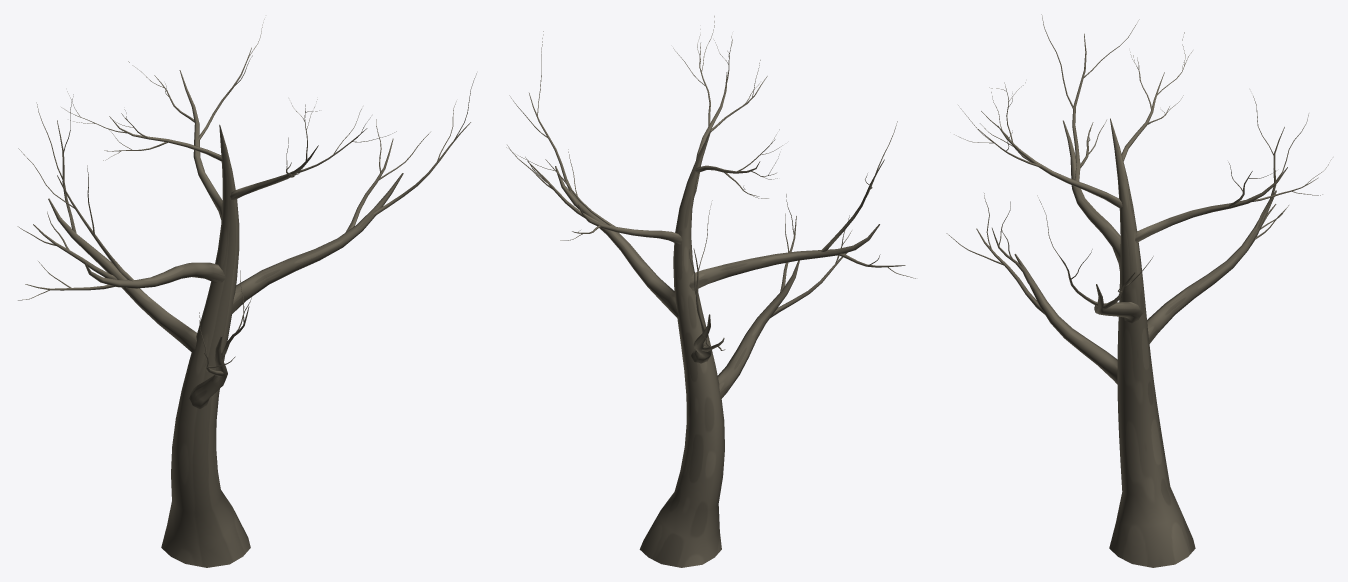
File: tree.gltf
3 renders of one model, left to right at view 1: azimuth 30°, elevation 25°; view 2: azimuth 150°, elevation 25°; view 3: azimuth 270°, elevation 25°, orthographic. The views are drawn at different scales.
Parts seen in each view (by area): view 1: Tree_LOD0; view 2: Tree_LOD0; view 3: Tree_LOD0.
Boxes of the visible parts, x1=… form: Tree_LOD0: x1=17, y1=19, x2=476, y2=567; Tree_LOD0: x1=506, y1=16, x2=915, y2=567; Tree_LOD0: x1=946, y1=14, x2=1331, y2=567.
Bounding box in the file's own units: 15.78 × 16.8 × 12.39.
1 material, 1 textured.
